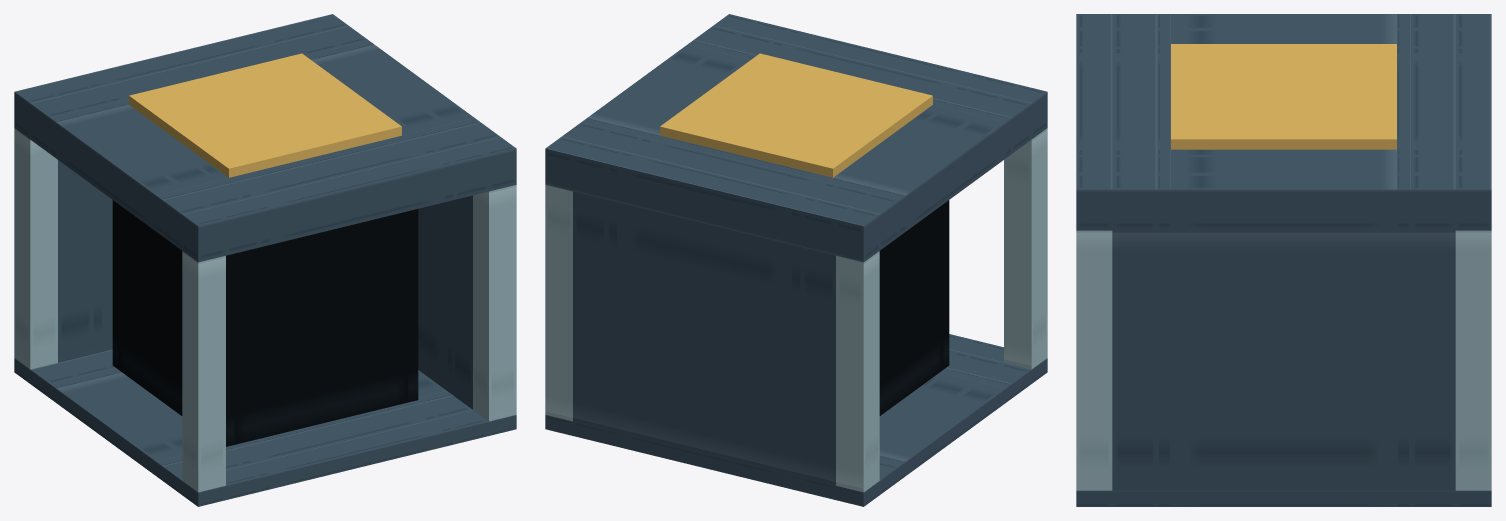
File: sc_factory_corner.obj
The picture shows the model from 3 angles, left to right: view 1: azimuth 30°, elevation 25°; view 2: azimuth 150°, elevation 25°; view 3: azimuth 270°, elevation 25°; orthographic projection. The views are drawn at different scales.
Size of the model in its own units: 18.4 by 16 by 18.4.
1 material, 1 textured.
